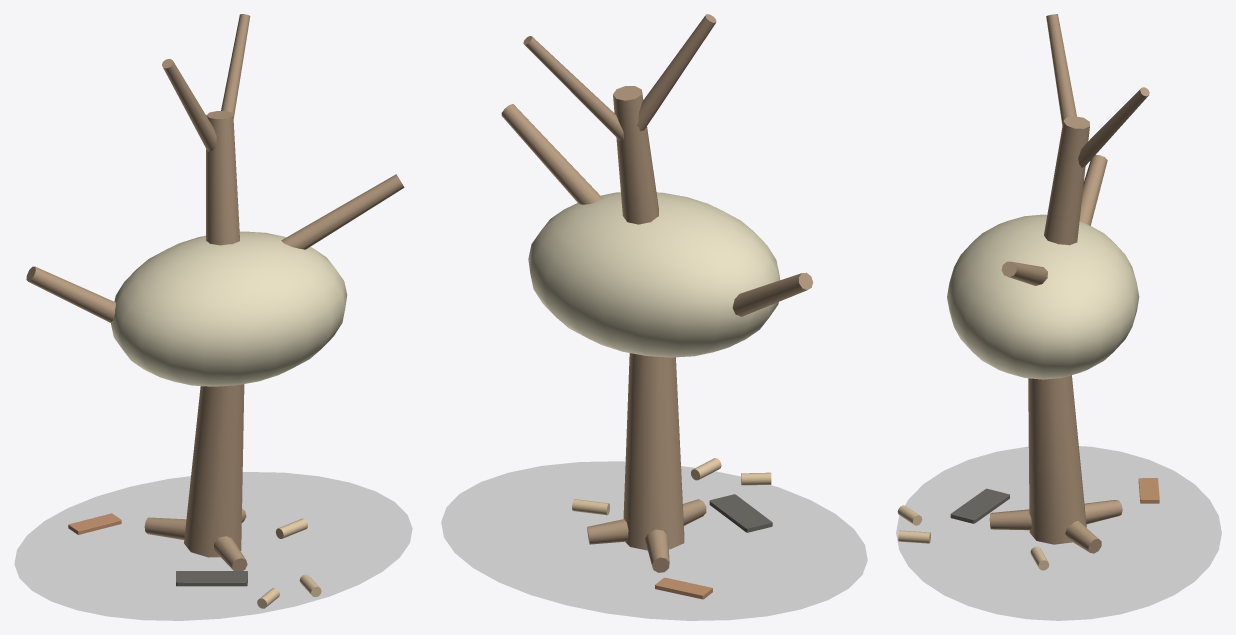
The model's file is dead_tree_a.glb.
3 views of the same model, side by side, from view 1: azimuth 30°, elevation 25°; view 2: azimuth 150°, elevation 25°; view 3: azimuth 270°, elevation 25° (orthographic). The views are drawn at different scales.
Visible parts, largest first — view 1: painted_contact_shadow, pale_broken_knot, twisted_main_trunk_lower, twisted_main_trunk_upper, bleached_branch_1, bleached_branch_0, bleached_branch_2, bleached_branch_3, loose_scrap_flake_3, surface_root_0, surface_root_2, loose_scrap_flake_0; view 2: painted_contact_shadow, pale_broken_knot, twisted_main_trunk_lower, twisted_main_trunk_upper, bleached_branch_1, bleached_branch_2, bleached_branch_3, bleached_branch_0, loose_scrap_flake_3, surface_root_1, surface_root_0, loose_scrap_flake_0; view 3: painted_contact_shadow, pale_broken_knot, twisted_main_trunk_lower, twisted_main_trunk_upper, bleached_branch_2, bleached_branch_3, bleached_branch_0, loose_scrap_flake_3, surface_root_2, bleached_branch_1, surface_root_0, surface_root_1 (+1 smaller).
Part boxes in pixels (bbox=[...]): painted_contact_shadow: bbox=[15, 472, 412, 620]; pale_broken_knot: bbox=[111, 231, 347, 386]; twisted_main_trunk_lower: bbox=[184, 384, 244, 557]; twisted_main_trunk_upper: bbox=[206, 111, 239, 245]; bleached_branch_1: bbox=[281, 174, 404, 249]; bleached_branch_0: bbox=[26, 266, 115, 322]; bleached_branch_2: bbox=[162, 59, 216, 151]; bleached_branch_3: bbox=[221, 14, 250, 118]; loose_scrap_flake_3: bbox=[176, 571, 247, 586]; surface_root_0: bbox=[144, 517, 186, 539]; surface_root_2: bbox=[213, 536, 247, 570]; loose_scrap_flake_0: bbox=[68, 513, 121, 534]; painted_contact_shadow: bbox=[441, 461, 867, 620]; pale_broken_knot: bbox=[528, 192, 779, 357]; twisted_main_trunk_lower: bbox=[623, 353, 684, 550]; twisted_main_trunk_upper: bbox=[613, 86, 658, 224]; bleached_branch_1: bbox=[501, 104, 602, 204]; bleached_branch_2: bbox=[636, 14, 716, 131]; bleached_branch_3: bbox=[523, 36, 624, 140]; bleached_branch_0: bbox=[732, 272, 813, 316]; loose_scrap_flake_3: bbox=[709, 494, 772, 532]; surface_root_1: bbox=[587, 519, 628, 544]; surface_root_0: bbox=[645, 529, 669, 572]; loose_scrap_flake_0: bbox=[655, 577, 712, 599]; painted_contact_shadow: bbox=[896, 446, 1221, 620]; pale_broken_knot: bbox=[947, 214, 1139, 379]; twisted_main_trunk_lower: bbox=[1028, 375, 1086, 544]; twisted_main_trunk_upper: bbox=[1044, 116, 1089, 245]; bleached_branch_2: bbox=[1046, 14, 1076, 125]; bleached_branch_3: bbox=[1078, 87, 1149, 167]; bleached_branch_0: bbox=[1079, 155, 1107, 225]; loose_scrap_flake_3: bbox=[950, 488, 1009, 523]; surface_root_2: bbox=[989, 509, 1031, 530]; bleached_branch_1: bbox=[1001, 261, 1047, 285]; surface_root_0: bbox=[1084, 500, 1122, 524]; surface_root_1: bbox=[1065, 520, 1101, 553].
Bounding box in the file's own units: 1.84 × 2.42 × 1.44.
